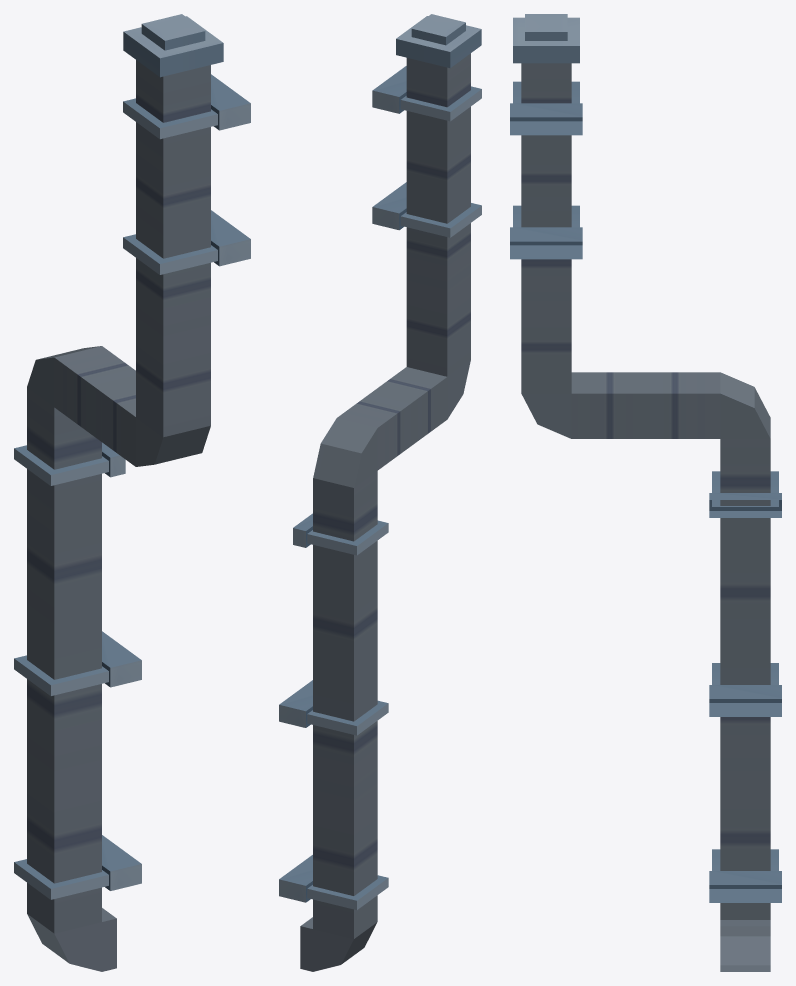
File: SM_VentShaft_long_01.fbx
The picture shows the model from 3 angles, left to right: view 1: azimuth 30°, elevation 25°; view 2: azimuth 150°, elevation 25°; view 3: azimuth 270°, elevation 25°; orthographic projection. The views are drawn at different scales.
Visible parts, largest first — view 1: SM_VentShaft_long_01; view 2: SM_VentShaft_long_01; view 3: SM_VentShaft_long_01.
Part boxes in pixels (left/top/right/bottom): SM_VentShaft_long_01: left=14, top=14, right=250, bottom=971; SM_VentShaft_long_01: left=279, top=14, right=481, bottom=971; SM_VentShaft_long_01: left=510, top=14, right=781, bottom=971.
Bounding box in the file's own units: 1.37 × 14.9 × 3.94.
